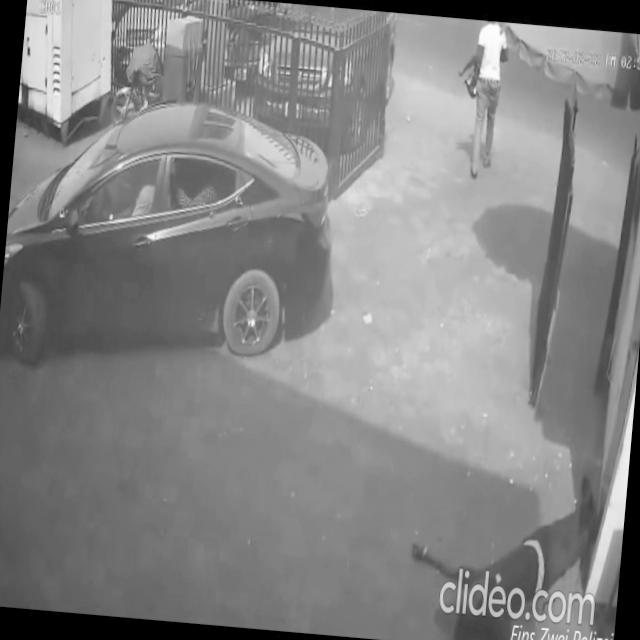gun: (455, 38, 481, 82)
person: (401, 455, 602, 640)
person with a gun: (448, 18, 510, 180)
